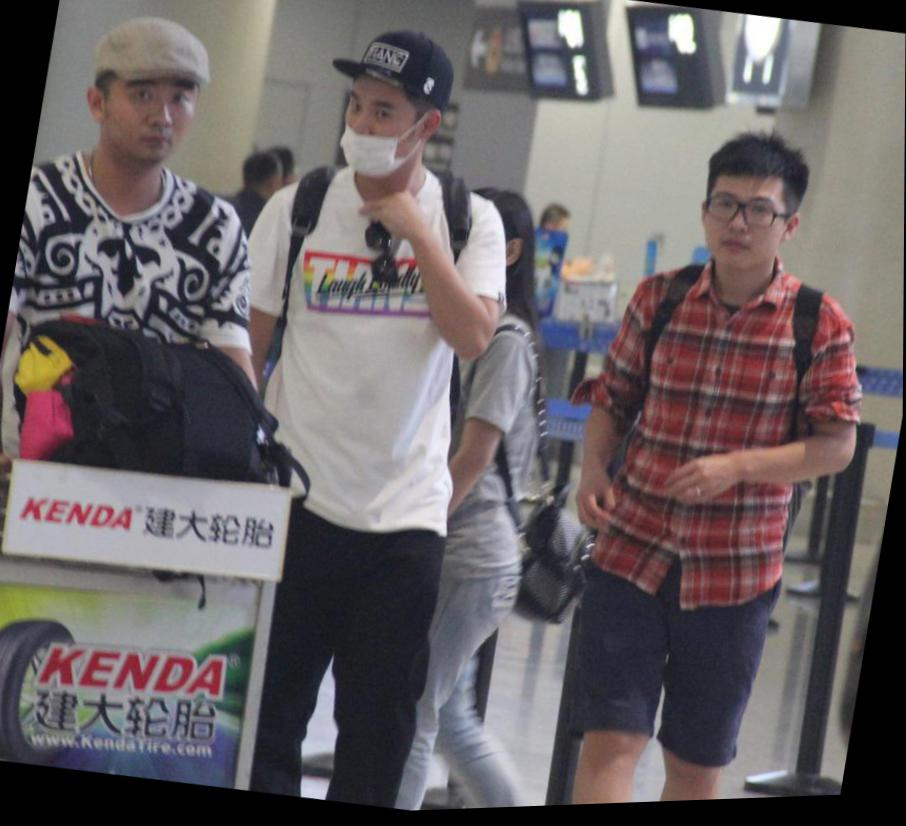NONE: (103, 73, 201, 170), (700, 178, 792, 280)
WRONG: (332, 85, 429, 185)
